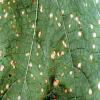grape leaf black rot: (0, 1, 99, 99)
